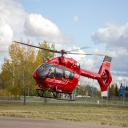helicopter: (19, 42, 116, 103)
